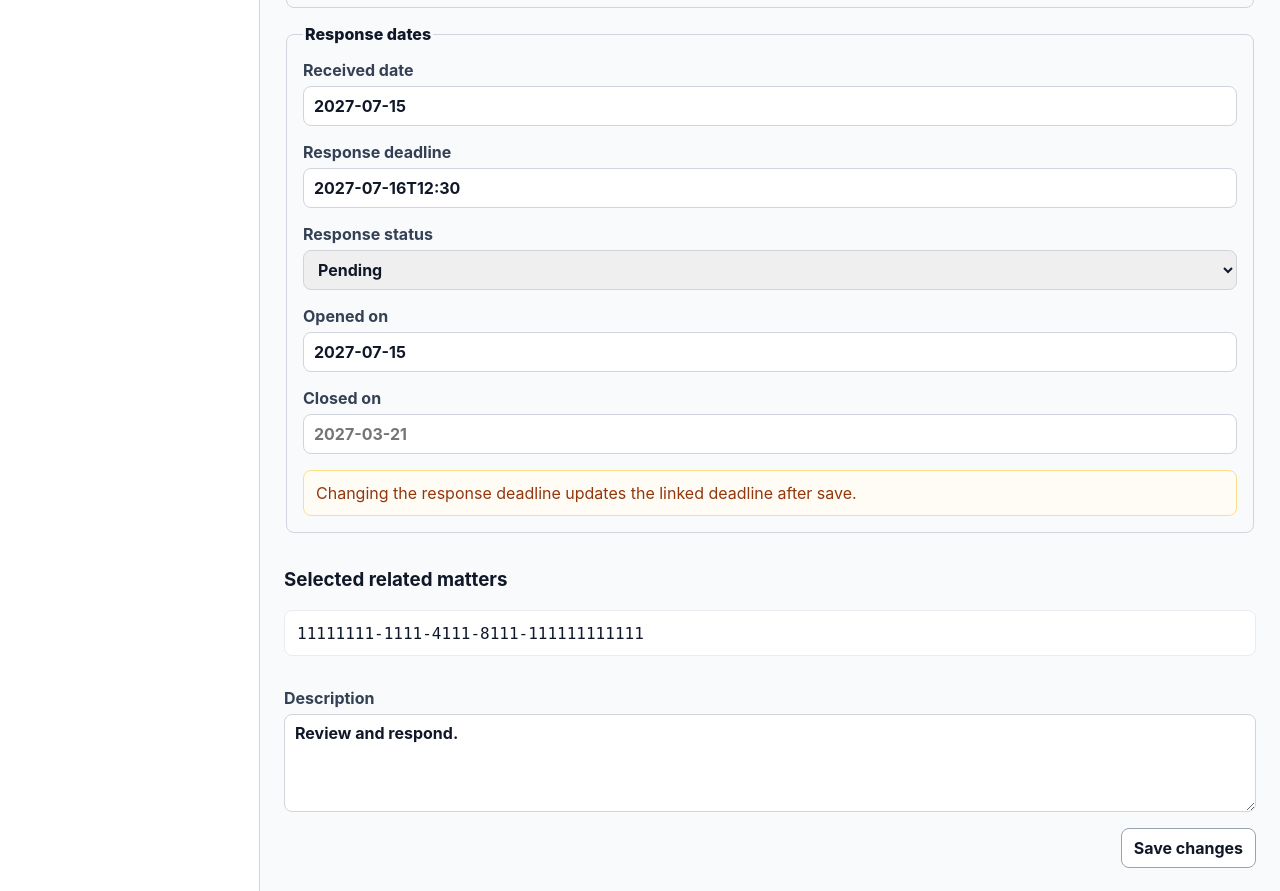
it: shows hidden relation errors as clear related matter guidance
This screenshot has width=1280, height=891.
(page scrolled)
What coordinates should you click on to do the following:
click the button "Save changes"
I would click on:
 (1188, 848)
Its box is [1121, 828, 1256, 868].
(page scrolled)
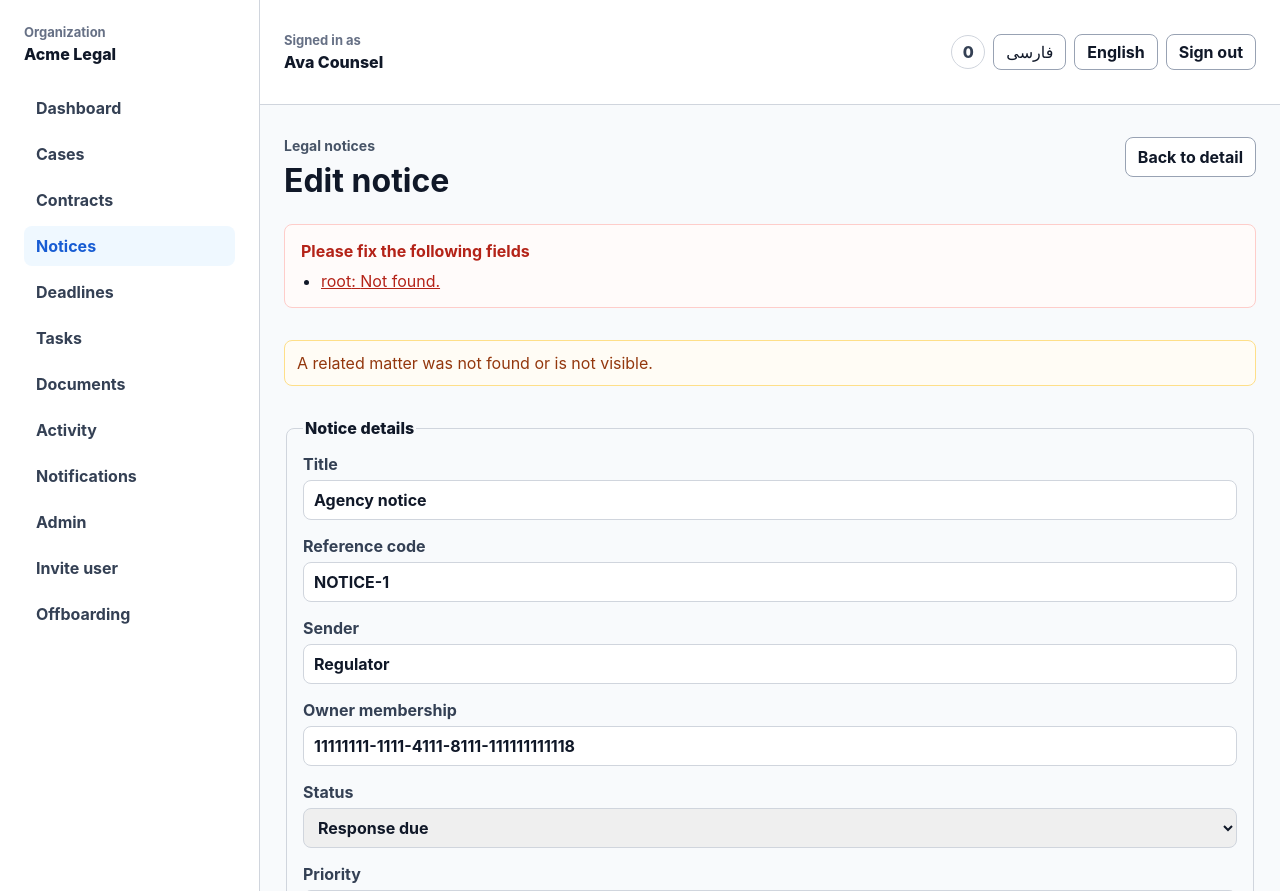
Expected: the text "A related matter was not found or is not visible." is shown, [284, 340, 1256, 386]
